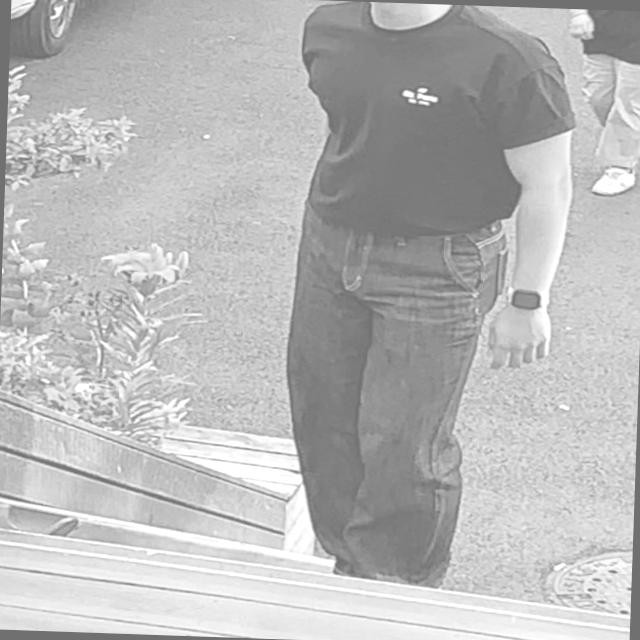denimpants: (278, 204, 506, 588)
shortsleeve: (289, 0, 577, 248)
